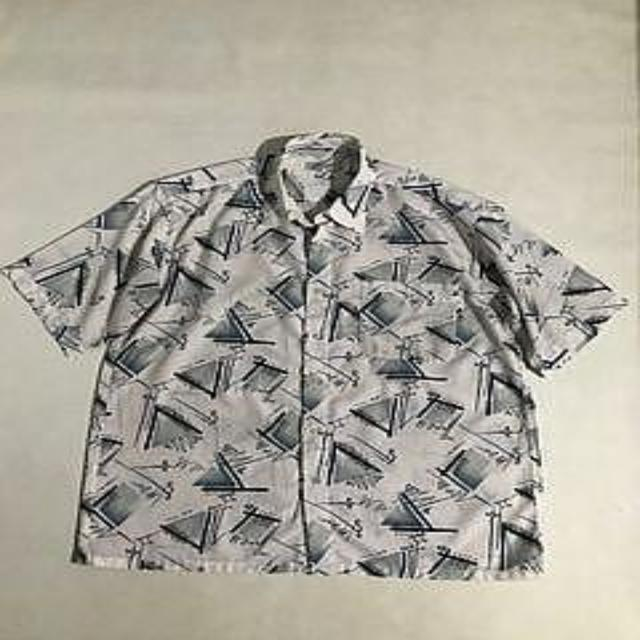SHIRT: (2, 123, 640, 590)
